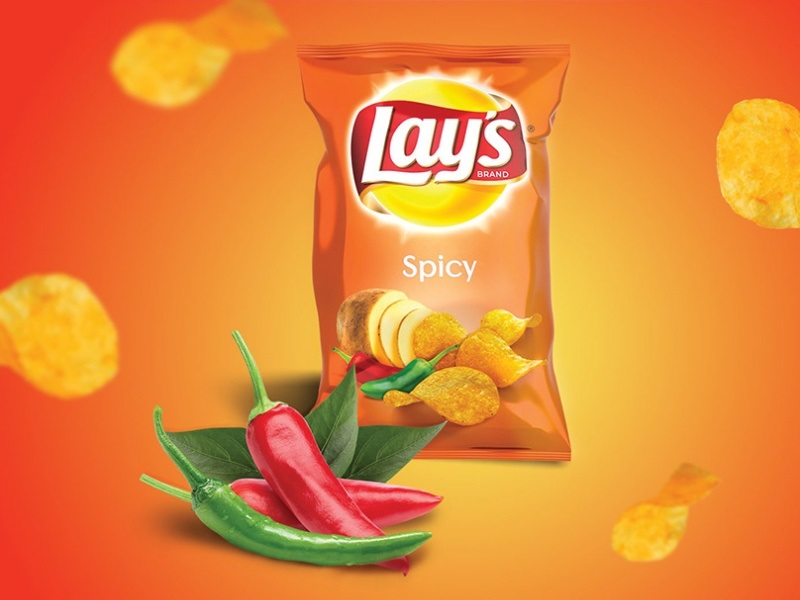chips: (268, 28, 607, 472)
